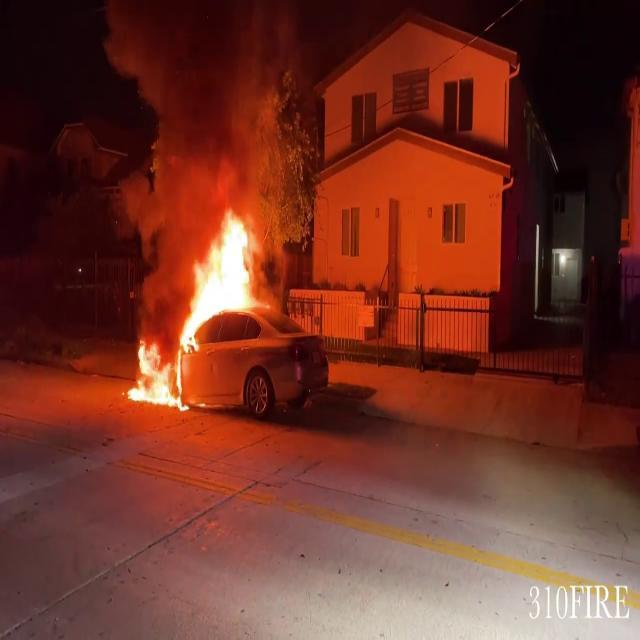Fire: (123, 202, 275, 408)
Smoke: (94, 0, 285, 214)
